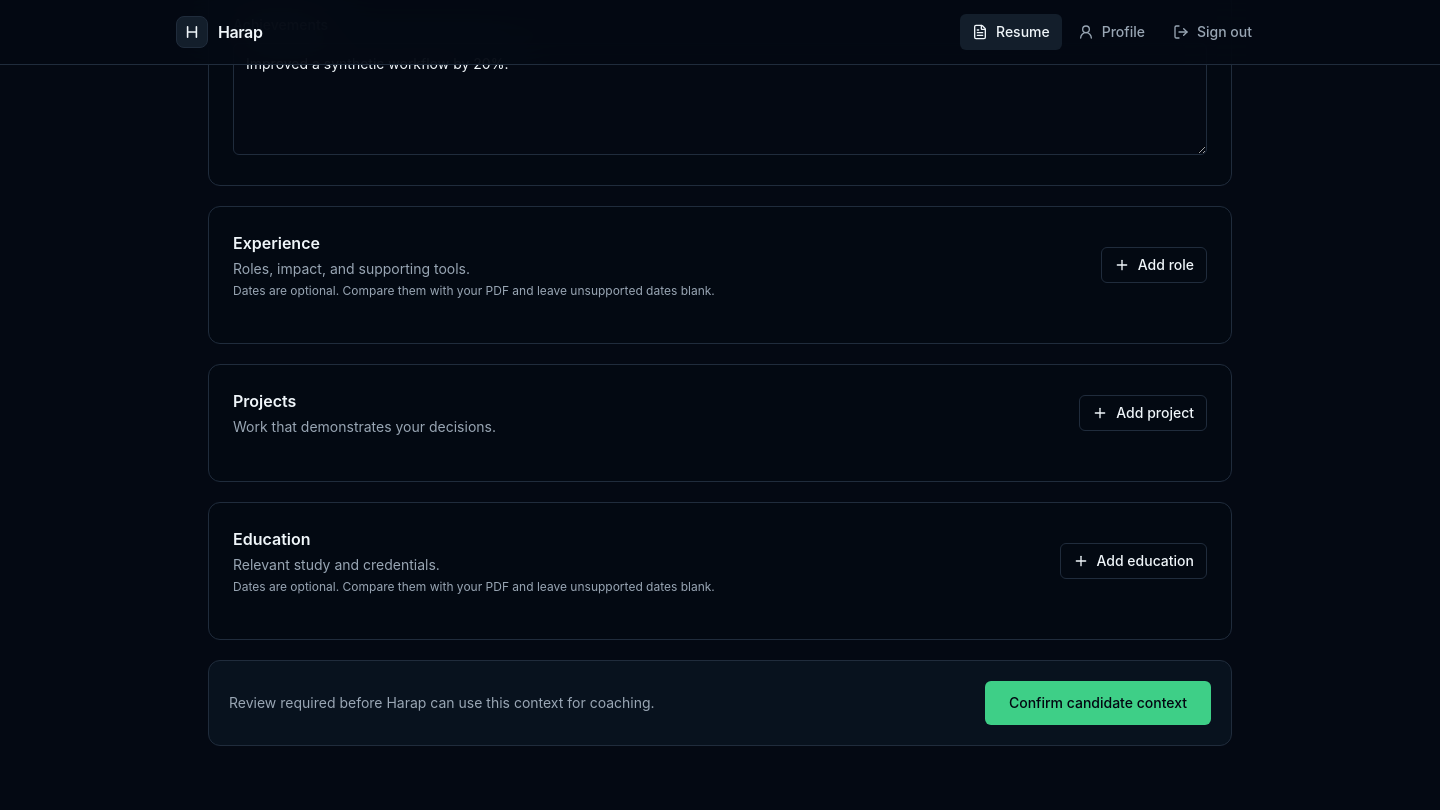
it: Harap application flows › shows pending confirmation and prevents repeated submissions
(page scrolled)
What coordinates should you click on to do the following:
click the button "Confirm candidate context"
I would click on:
 (1098, 703)
Its box is left=985, top=681, right=1211, bottom=725.
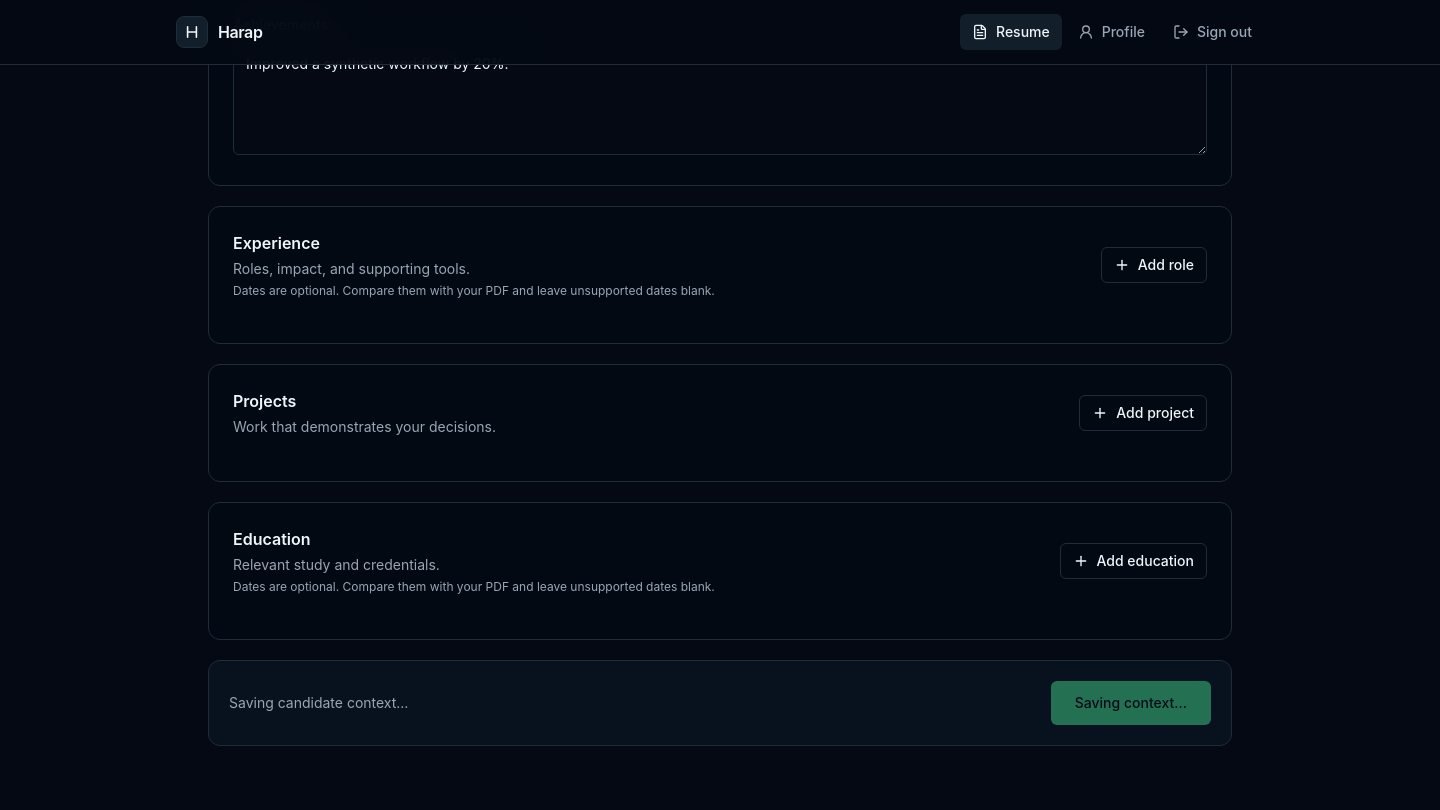
Check: the text "Saving candidate context…" is shown, box left=229, top=693, right=408, bottom=713
Check: the button "Saving context…" is disabled
What coordinates should you click on to do the following:
click the button "Saving context…"
I would click on:
 (1131, 703)
Its box is left=1051, top=681, right=1211, bottom=725.
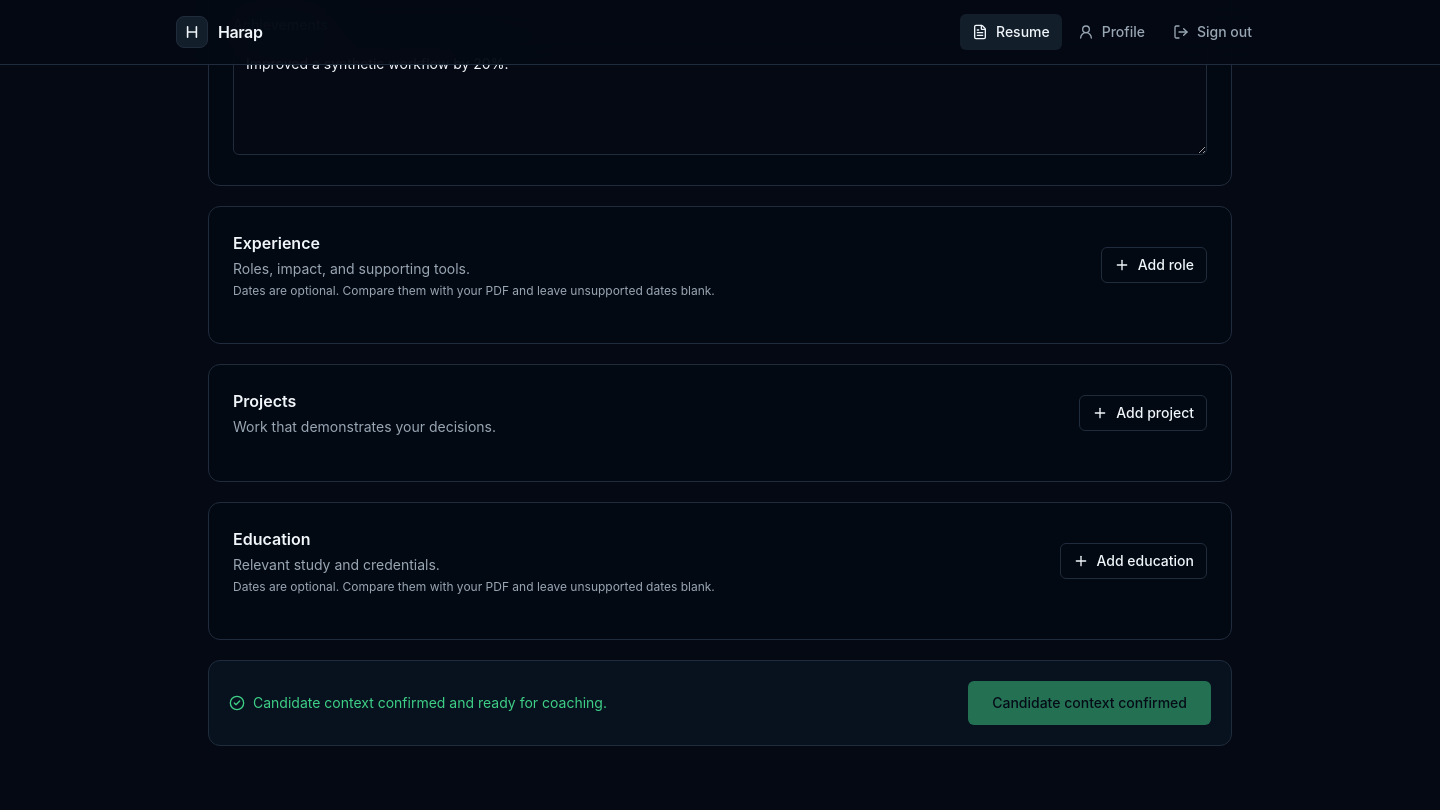
Check: the text "Candidate context confirmed and ready for coaching." is shown, box left=229, top=693, right=607, bottom=713
